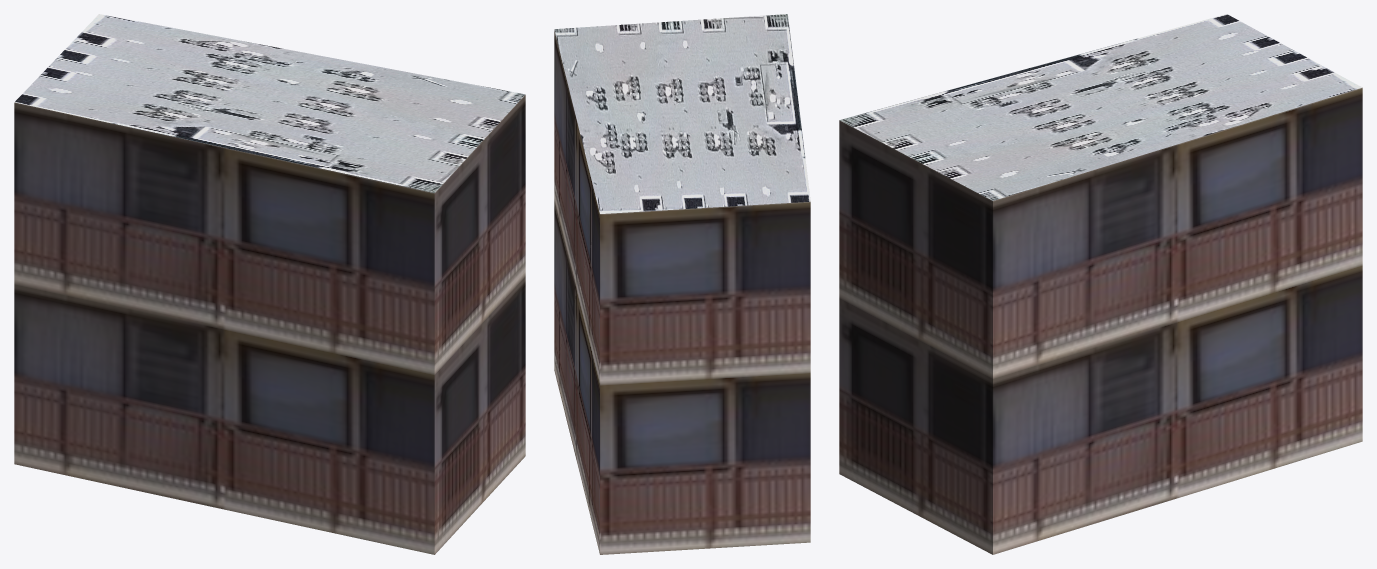
The model's file is ResTex__1562.fbx.
The picture shows the model from 3 angles, left to right: view 1: azimuth 30°, elevation 25°; view 2: azimuth 150°, elevation 25°; view 3: azimuth 270°, elevation 25°; orthographic projection. The views are drawn at different scales.
Visible parts, largest first — view 1: CityEngineMaterial_6_m, CityEngineMaterial_m; view 2: CityEngineMaterial_6_m, CityEngineMaterial_m; view 3: CityEngineMaterial_6_m, CityEngineMaterial_m.
Part boxes in pixels (x1,y1,x2,y2): CityEngineMaterial_6_m: (14, 95, 525, 554); CityEngineMaterial_m: (14, 14, 525, 192); CityEngineMaterial_6_m: (554, 30, 810, 554); CityEngineMaterial_m: (554, 14, 810, 213); CityEngineMaterial_6_m: (839, 87, 1362, 554); CityEngineMaterial_m: (839, 14, 1361, 200).
Bounding box in the file's own units: 6.8 × 6 × 8.04.
2 materials, 2 textured.
